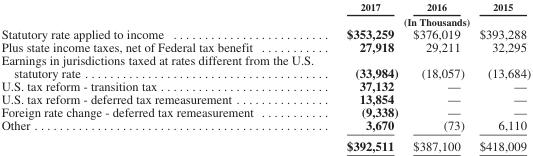table: (0, 0, 530, 152)
table column: (0, 0, 329, 152), (329, 0, 404, 152), (404, 0, 471, 152), (471, 0, 530, 152)
table column header: (0, 0, 530, 26)
table row: (0, 53, 530, 79), (0, 118, 530, 135), (0, 135, 530, 152), (0, 0, 530, 14), (0, 26, 530, 40), (0, 40, 530, 53), (0, 79, 530, 92), (0, 92, 530, 105), (0, 105, 530, 118), (0, 14, 530, 26)
table spanning cell: (329, 14, 530, 26)
